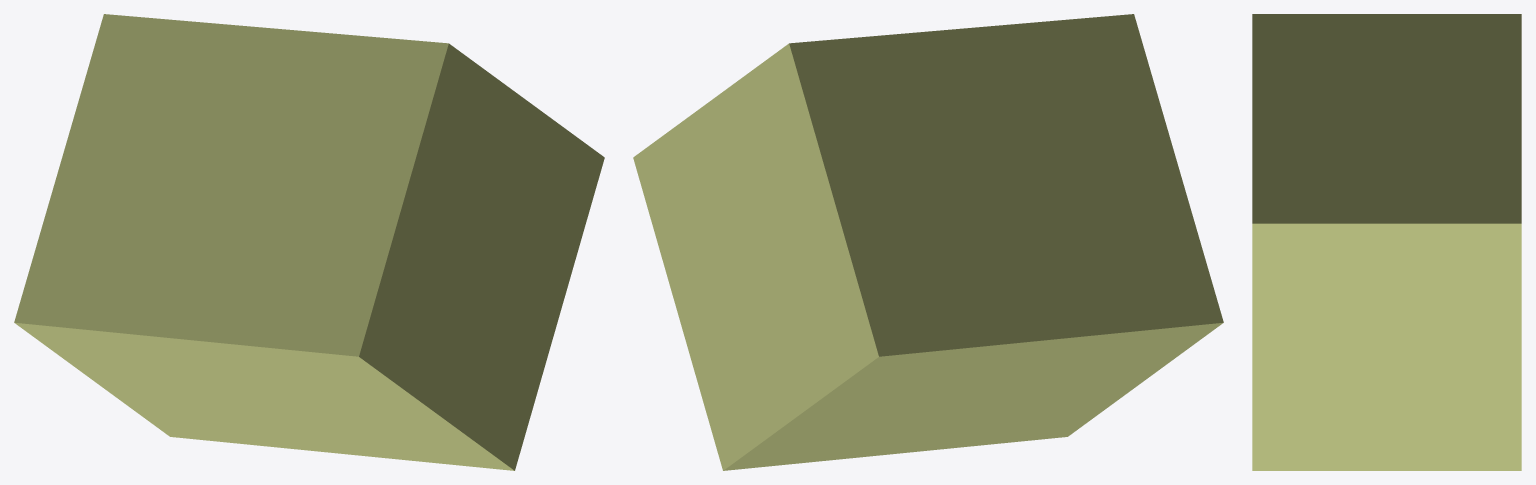
3 views of the same model, side by side, from view 1: azimuth 30°, elevation 25°; view 2: azimuth 150°, elevation 25°; view 3: azimuth 270°, elevation 25° (orthographic). The views are drawn at different scales.
Parts seen in each view (by area): view 1: 0_1_0_1_3_3_3_3_1_2_0; view 2: 0_1_0_1_3_3_3_3_1_2_0; view 3: 0_1_0_1_3_3_3_3_1_2_0.
Boxes of the visible parts, x1=… form: 0_1_0_1_3_3_3_3_1_2_0: x1=14, y1=14, x2=604, y2=470; 0_1_0_1_3_3_3_3_1_2_0: x1=633, y1=14, x2=1223, y2=470; 0_1_0_1_3_3_3_3_1_2_0: x1=1252, y1=14, x2=1521, y2=470.
Bounding box in the file's own units: 9.65 × 8.59 × 6.
